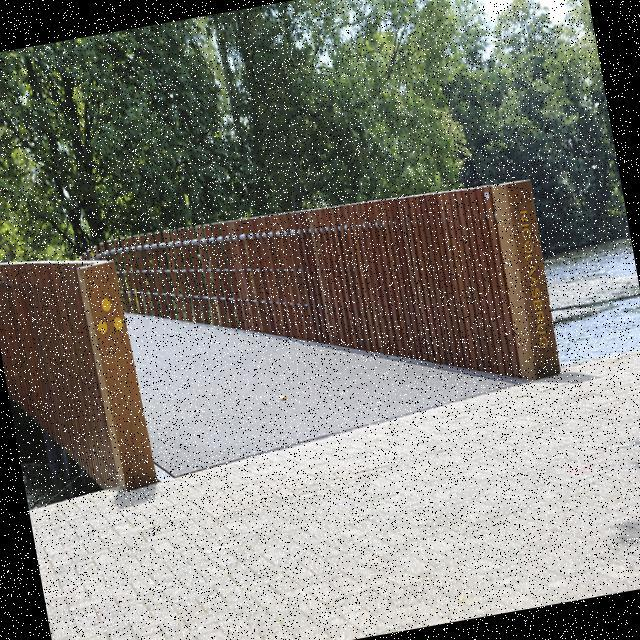fence line: (122, 167, 526, 447), (0, 251, 118, 499)
